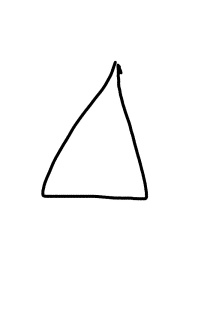Triangle: (39, 58, 151, 206)
